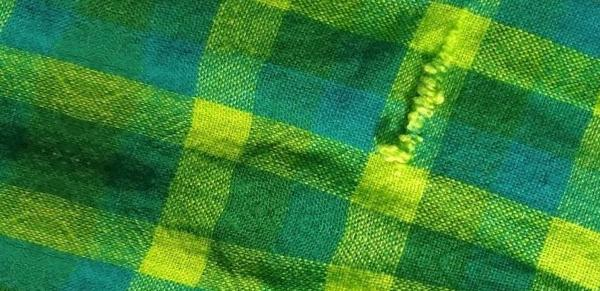knot: (369, 7, 476, 177)
